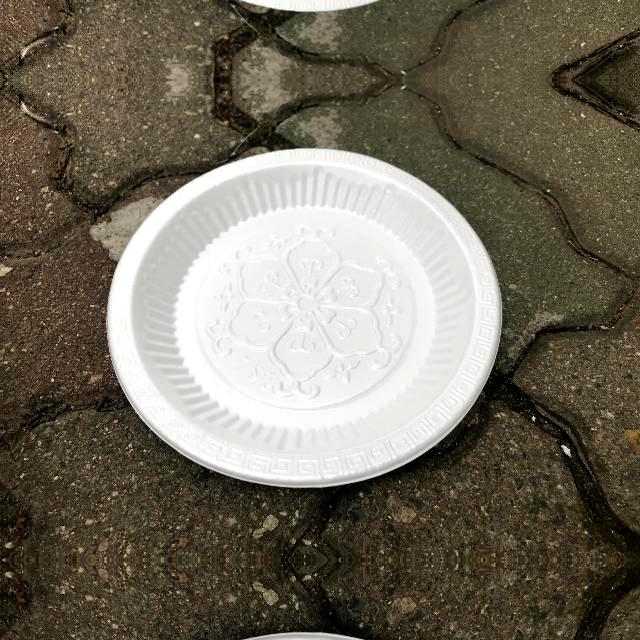Styrofoam: (106, 148, 506, 490), (106, 148, 502, 488)
